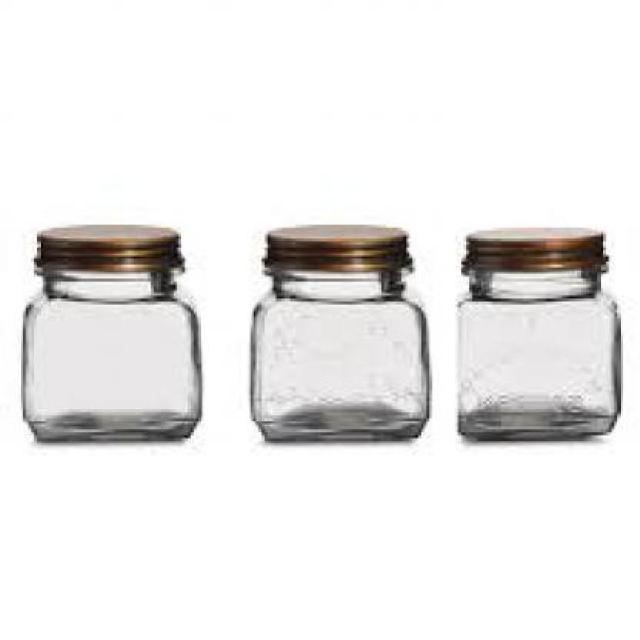GLASS: (248, 265, 432, 441), (18, 264, 199, 438), (452, 264, 617, 438)
METAL: (256, 224, 410, 270), (32, 225, 179, 268), (456, 228, 606, 268)
